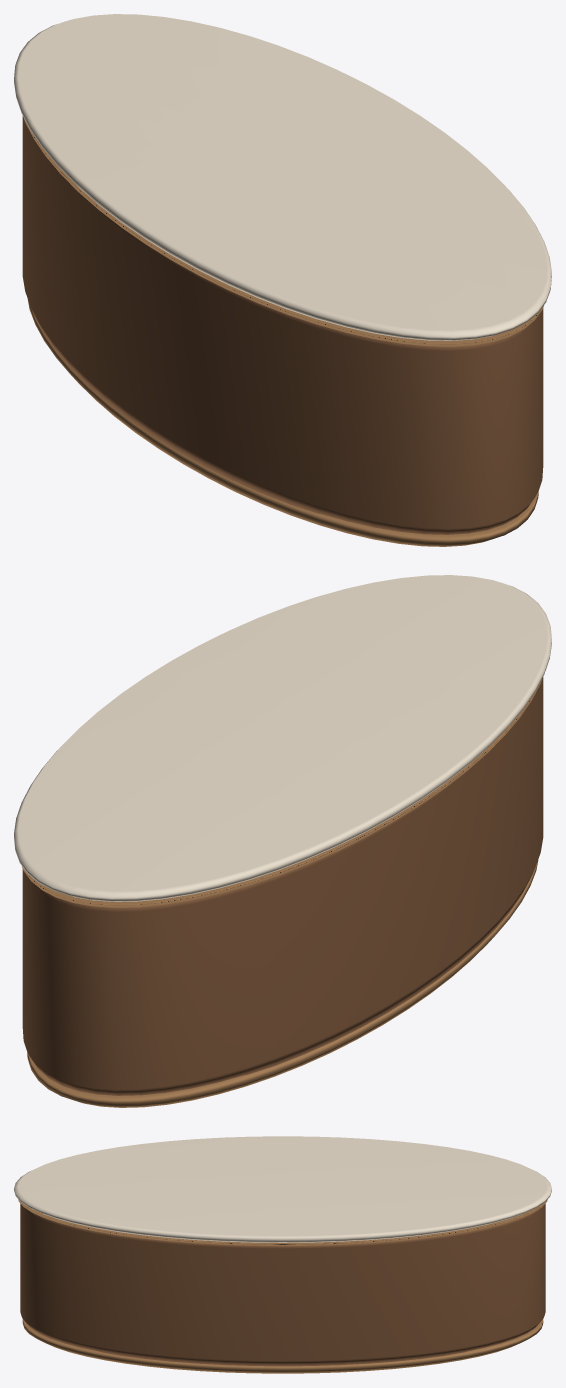
The model's file is mf_fragrance_counter.glb.
3 views of the same model, one above another, from view 1: azimuth 30°, elevation 25°; view 2: azimuth 150°, elevation 25°; view 3: azimuth 270°, elevation 25° (orthographic). The views are drawn at different scales.
Parts seen in each view (by area): view 1: zone__fragrance; view 2: zone__fragrance; view 3: zone__fragrance.
Boxes of the visible parts, bbox=[...] form: zone__fragrance: bbox=[14, 14, 551, 546]; zone__fragrance: bbox=[14, 575, 551, 1107]; zone__fragrance: bbox=[14, 1136, 551, 1373].
Size of the model in its own units: 1.5 by 0.979 by 3.36.
